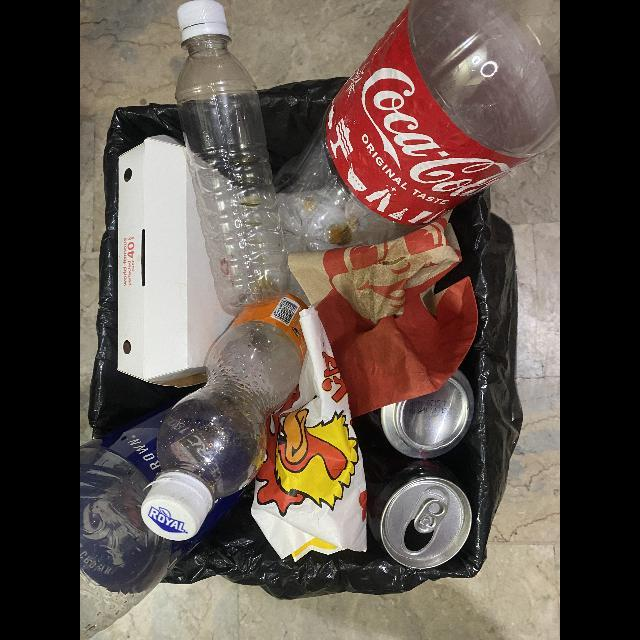metal: (362, 454, 472, 569), (360, 369, 474, 458)
paper: (288, 209, 478, 417), (117, 134, 245, 387), (252, 304, 368, 562)
plastic: (272, 0, 560, 254), (141, 284, 322, 541), (174, 0, 291, 309), (80, 413, 182, 640)
